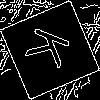K: (25, 25, 80, 73)
